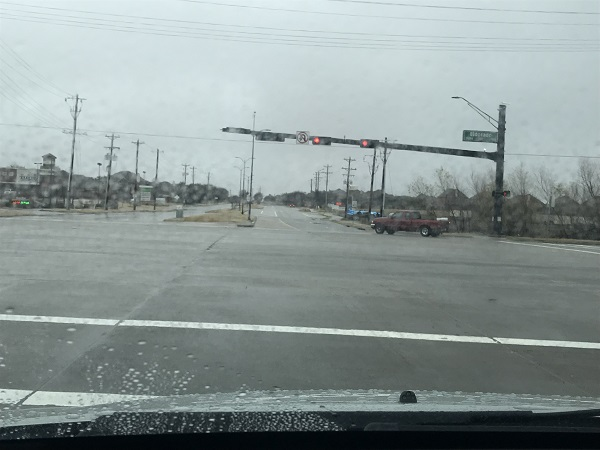truck: (370, 210, 456, 239)
